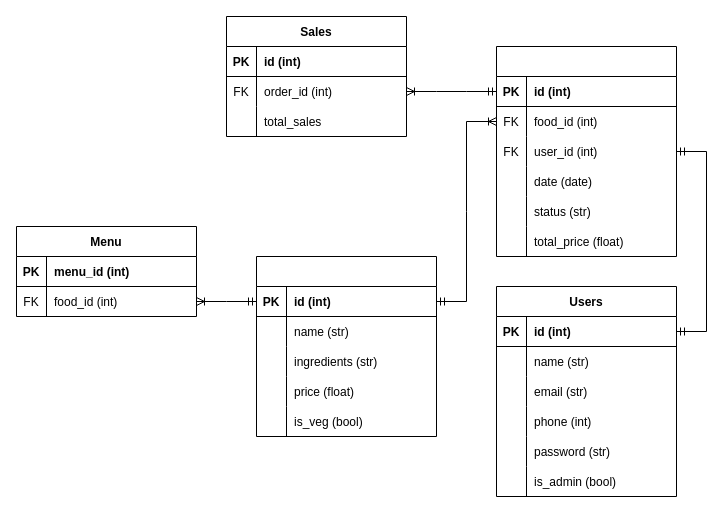
This 723x513 diagram has some shape labels left out. Here are the shapes that lost their labels. From the top down, the box of each, then its label:
(496, 46, 676, 256): Orders
(256, 256, 436, 436): Food
